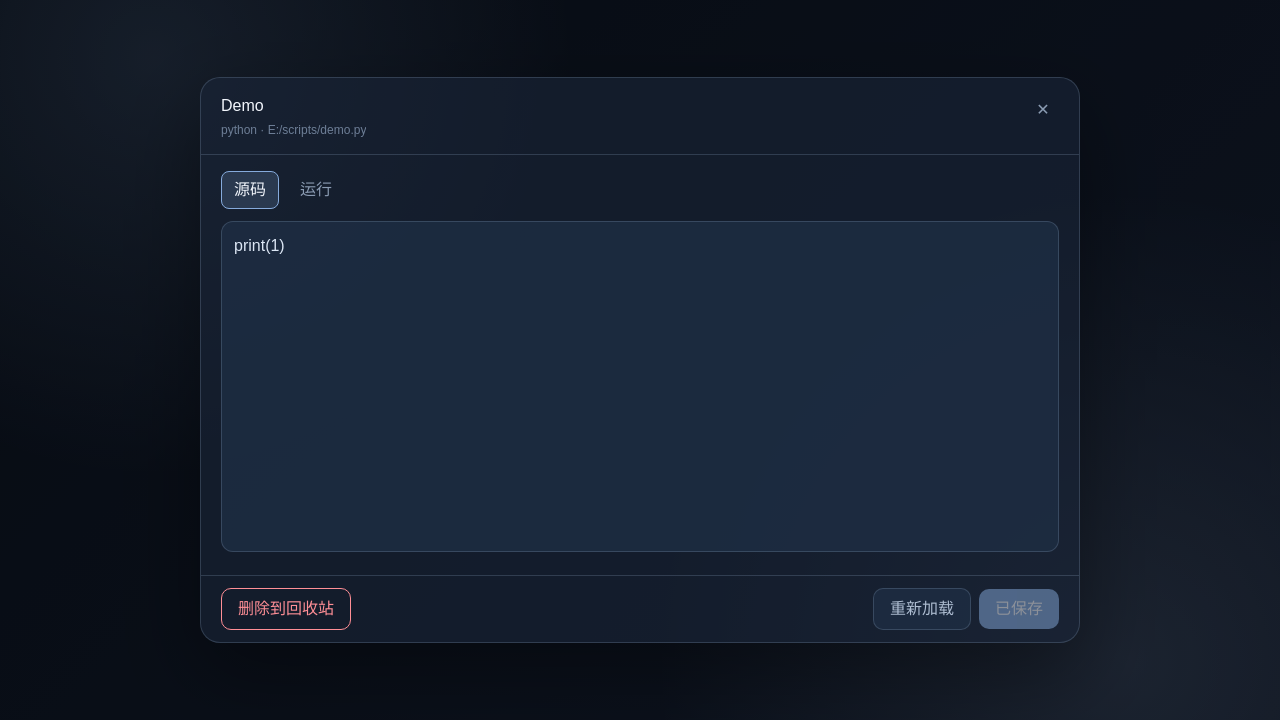
Scenario: ScriptWorkbenchDialog › runs the script with args and shows the captured output
The image size is (1280, 720).
Expected: the text box named "脚本源码" is shown, [221,221,1059,552]
Click the tab "运行".
click(316, 190)  # box [287,171,345,209]
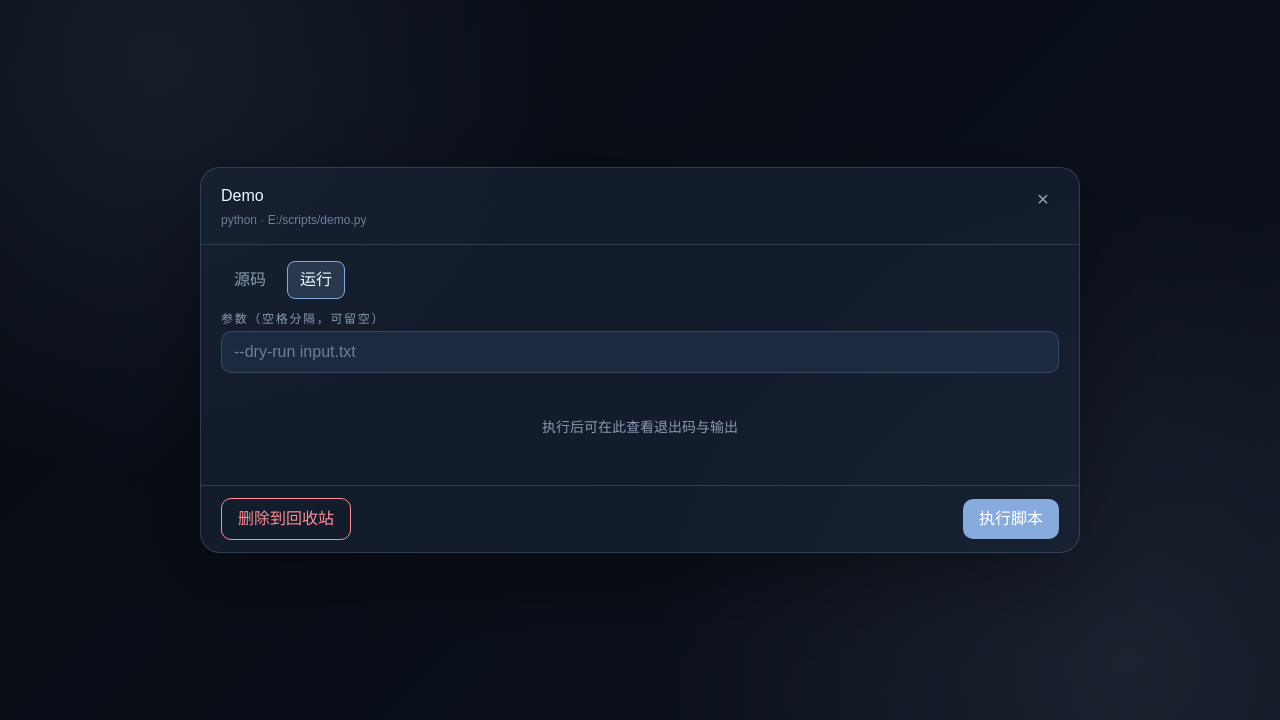
Type "--dry-run  input.txt" into the field named "脚本参数".
click(640, 352); type("--dry-run  input.txt")  # box [221,331,1059,373]
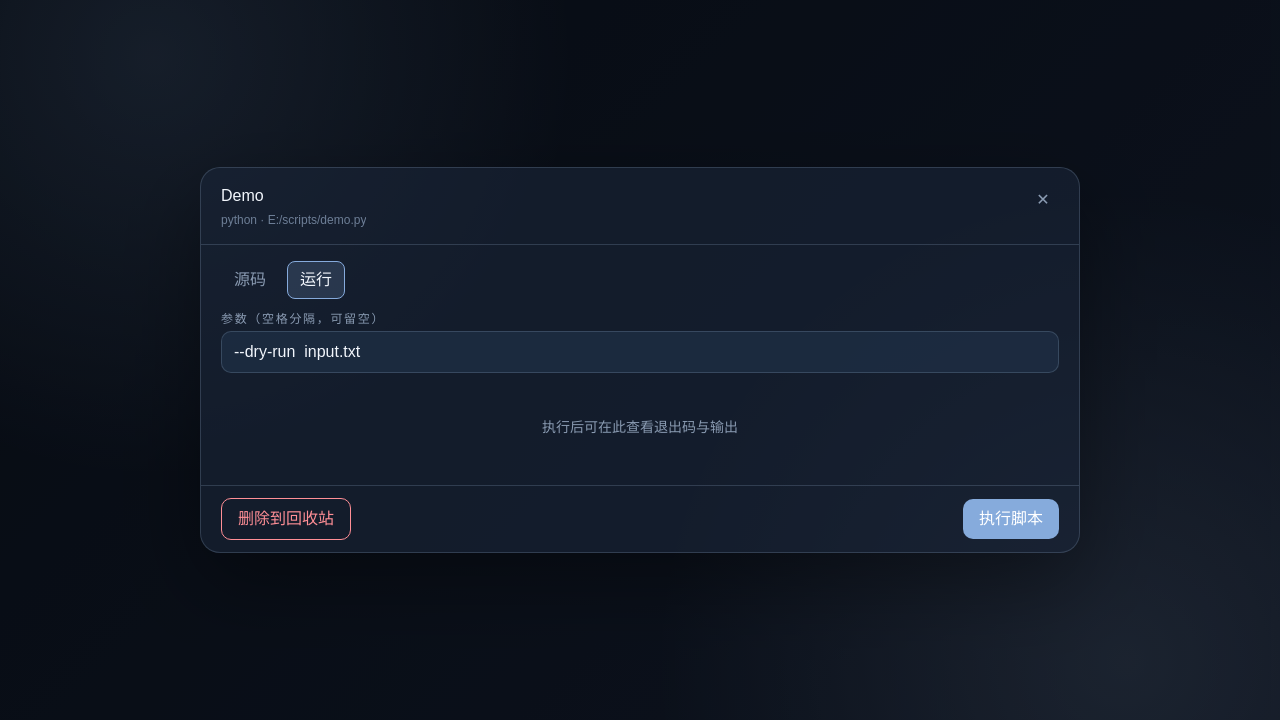
Click the button "执行脚本".
click(1011, 519)  # box [963,499,1059,539]
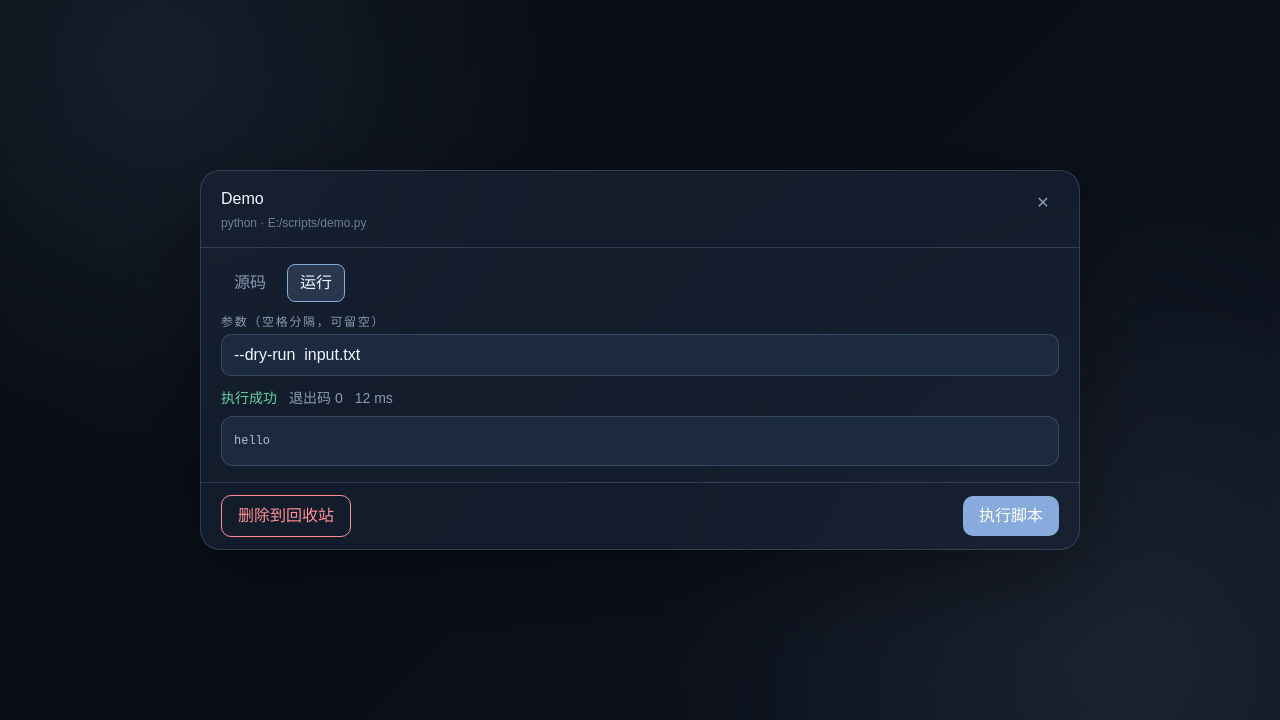
Result: the text named "执行结果" reads "hello" at [234,434,270,448]
Result: the text "执行成功" is shown at [221,388,277,408]
Result: the text "退出码 0" is shown at [289,388,343,408]
